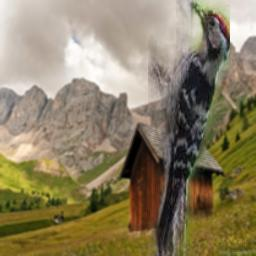Woodpecker: (148, 0, 230, 256)
